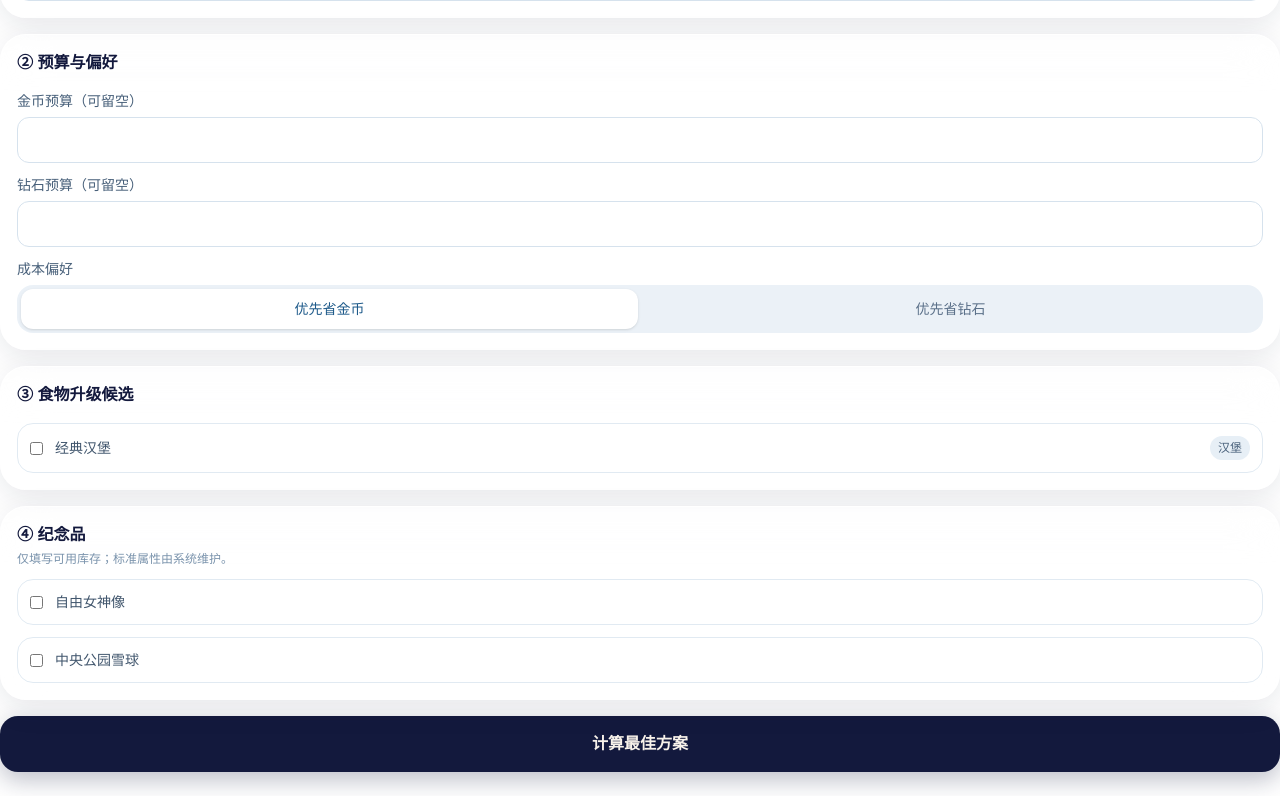
Test: CalculatorForm › keeps an enabled souvenir inventory blank and displays the returned field error
This screenshot has width=1280, height=796.
(page scrolled)
Click the checkbox named "允许使用自由女神像": (36, 602) x1=30 y1=596 x2=43 y2=608
(page scrolled)
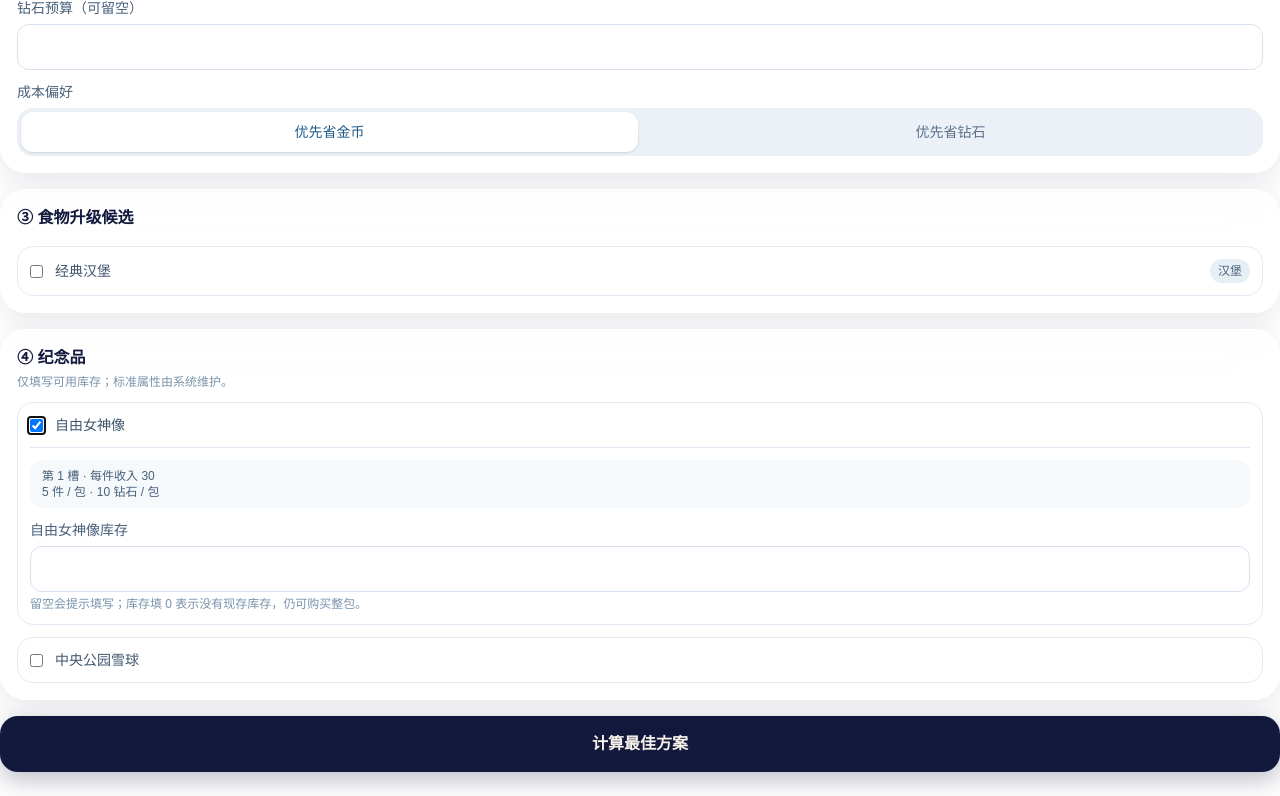
expect the text "第 1 槽 · 每件收入 30" is shown: met, box x1=42 y1=469 x2=155 y2=483
expect the text "5 件 / 包 · 10 钻石 / 包" is shown: met, box x1=42 y1=485 x2=159 y2=499
expect the text "留空会提示填写；库存填 0 表示没有现存库存，仍可购买整包。" is shown: met, box x1=30 y1=597 x2=367 y2=611
Click the button "计算最佳方案": (640, 744) x1=0 y1=716 x2=1279 y2=772
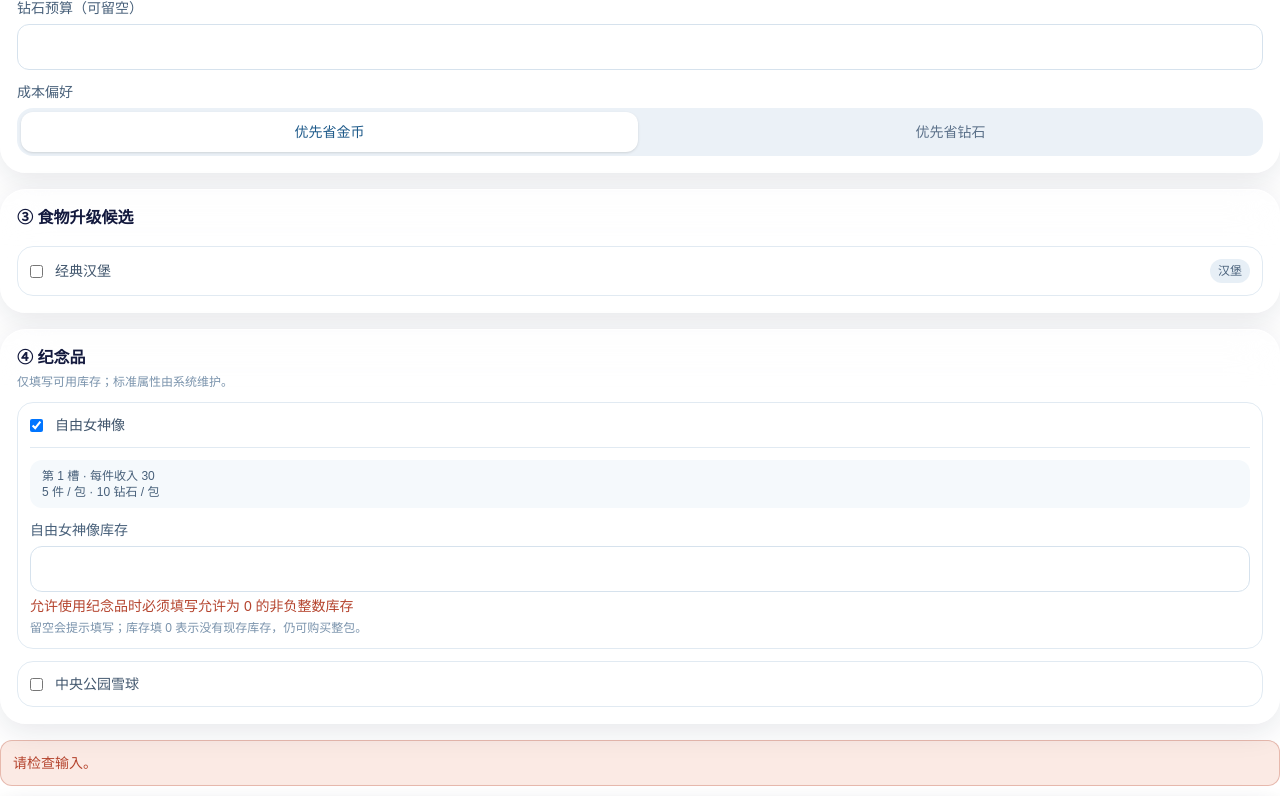
expect the number field labelled "自由女神像库存" is empty: met, box x1=30 y1=546 x2=1250 y2=592
expect the text "允许使用纪念品时必须填写允许为 0 的非负整数库存" is shown: met, box x1=30 y1=598 x2=354 y2=614
